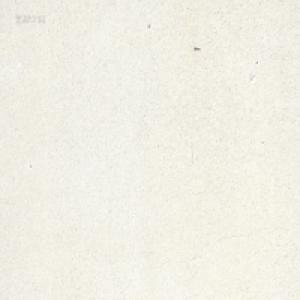Nail: (193, 45, 200, 51)
